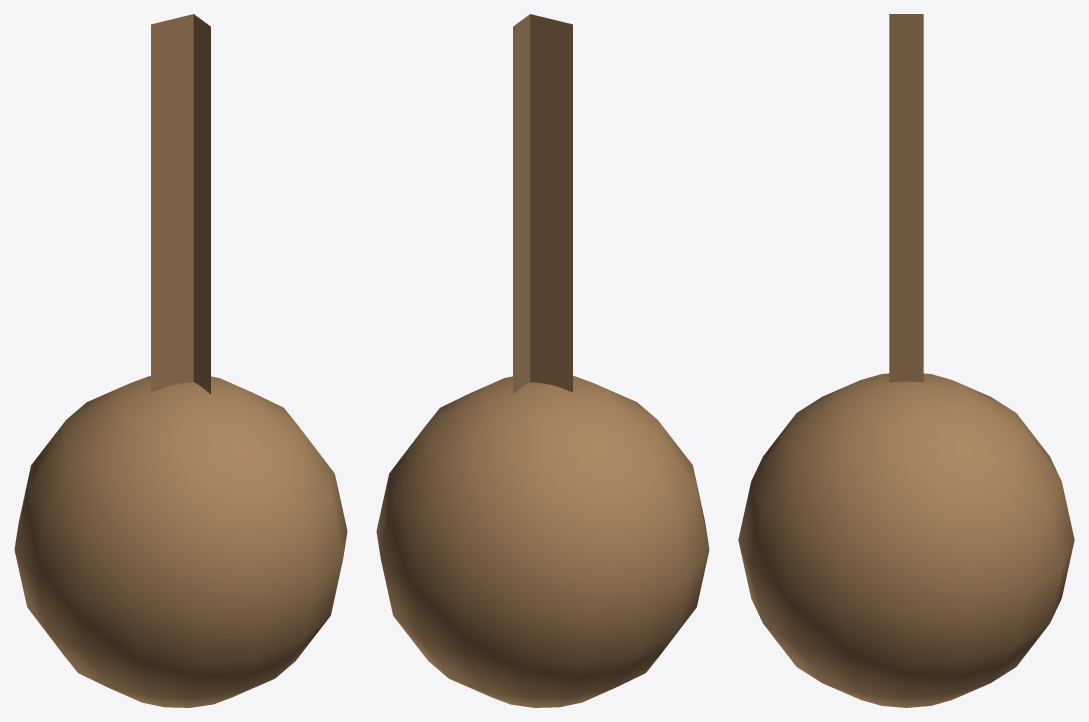
3 views of the same model, side by side, from view 1: azimuth 30°, elevation 25°; view 2: azimuth 150°, elevation 25°; view 3: azimuth 270°, elevation 25° (orthographic).
Visible parts, largest first — view 1: ud; view 2: ud; view 3: ud.
Boxes of the visible parts, x1,y1,x2,y2 form: ud: [14, 14, 347, 707]; ud: [376, 14, 709, 707]; ud: [738, 14, 1074, 707].
Size of the model in its own units: 0.68 by 1.49 by 0.68.
